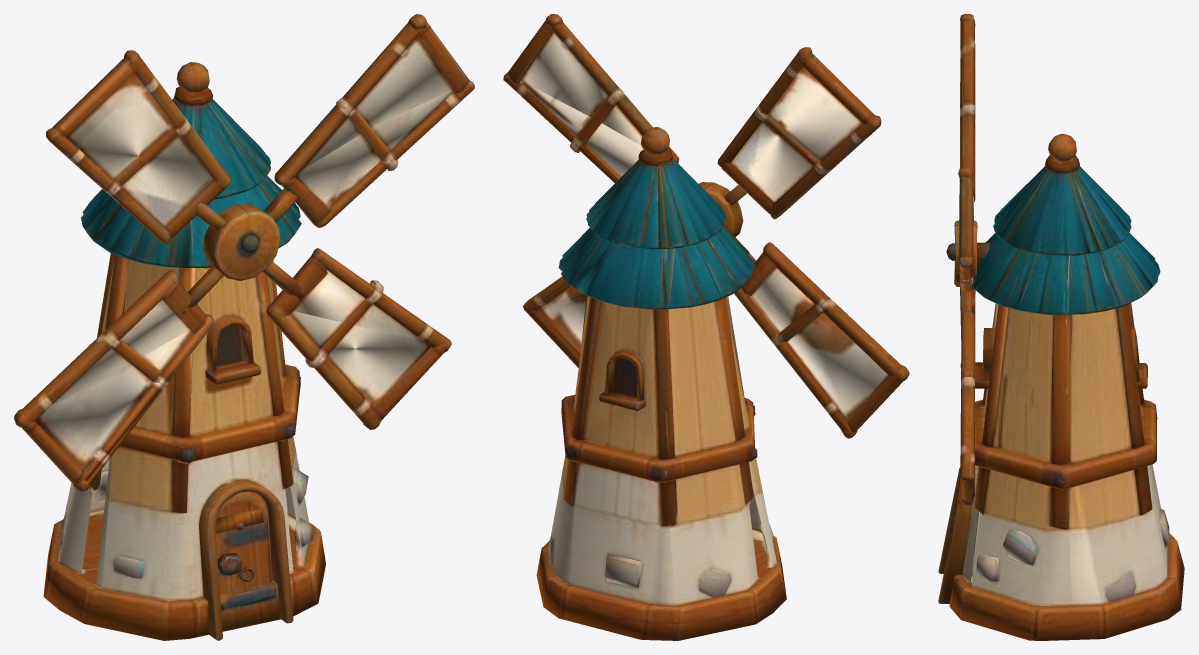
Rendered from trade_mill.glb.
3 views of the same model, side by side, from view 1: azimuth 30°, elevation 25°; view 2: azimuth 150°, elevation 25°; view 3: azimuth 270°, elevation 25° (orthographic). The views are drawn at different scales.
Size of the model in its own units: 0.8045 by 1 by 0.424.
Materials: 1 (1 with a texture image).
